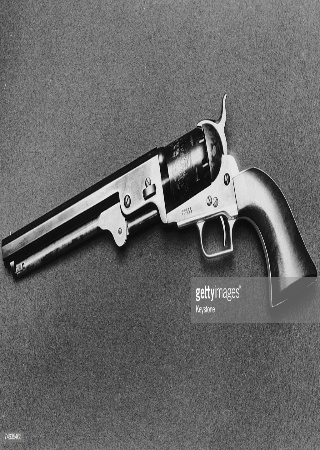handgun: (1, 108, 319, 319)
